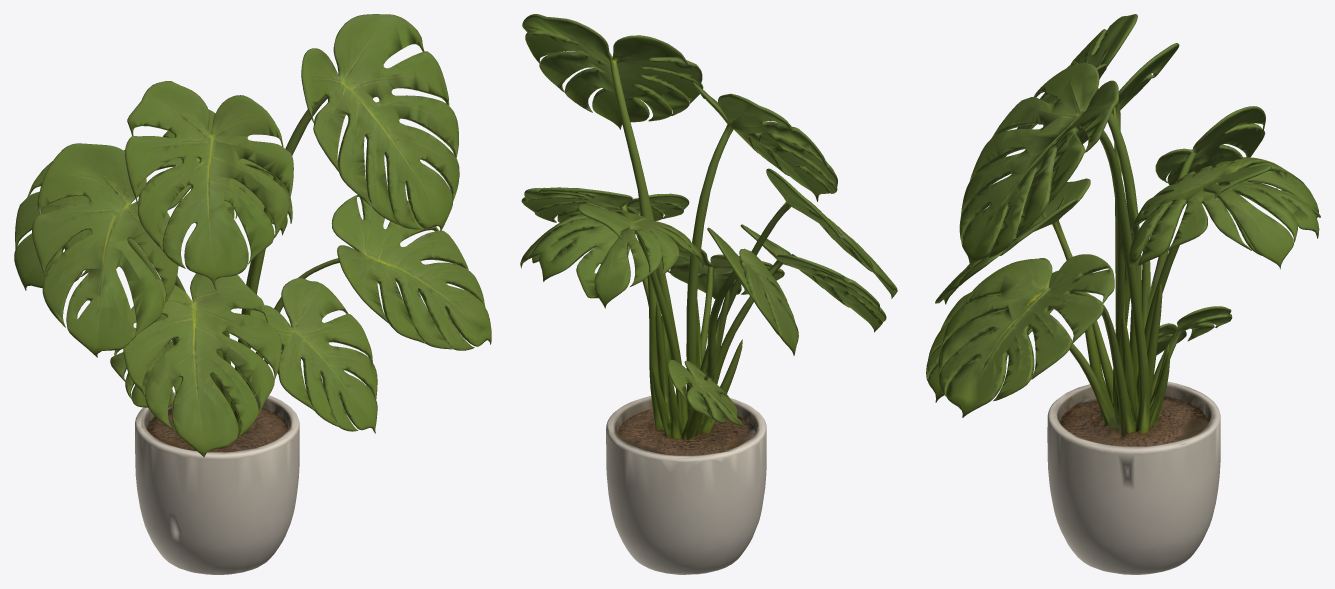
Rendered from monstera-eSrM83Wb.glb.
3 renders of one model, left to right at view 1: azimuth 30°, elevation 25°; view 2: azimuth 150°, elevation 25°; view 3: azimuth 270°, elevation 25°, orthographic. The views are drawn at different scales.
Visible parts, largest first — view 1: node_0; view 2: node_0; view 3: node_0.
Boxes of the visible parts, x1=… form: node_0: x1=14, y1=14, x2=491, y2=574; node_0: x1=520, y1=14, x2=897, y2=574; node_0: x1=926, y1=14, x2=1320, y2=574.
Bounding box in the file's own units: 0.8301 × 1.02 × 0.6827.
1 material, 1 textured.
